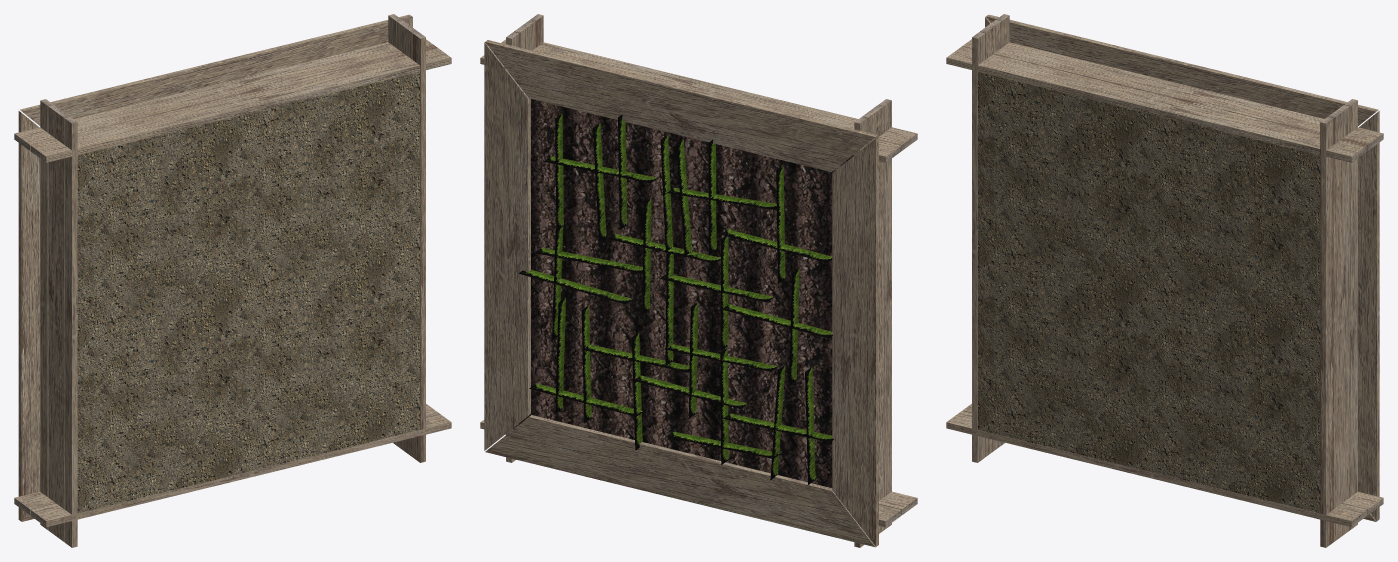
Rendered from sprite-tended.dae.
3 views of the same model, side by side, from view 1: azimuth 30°, elevation 25°; view 2: azimuth 150°, elevation 25°; view 3: azimuth 330°, elevation 25° (orthographic).
Parts seen in each view (by area): view 1: dirt, plank_06_Cube_009, top_2_Cube_022, top_3_Cube_021, plank_04_Cube_006, plank_07_Cube_010, plank_03_Cube_004, plank_01_Cube_02, plank_05_Cube_007, plank_08_Cube_011, plank_09_Cube_013, plank_02_Cube_03; view 2: dirt, top_2_Cube_022, top_3_Cube_021, top_4_Cube_023, top_1_Cube_016, plank_06_Cube_009, plank_03_Cube_004, plank_04_Cube_006, Cube_028_Cube_081, Cube_029_Cube_080, Cube_030_Cube_082, Cube_000_Cube_066 (+30 smaller); view 3: dirt, plank_06_Cube_009, top_4_Cube_023, top_3_Cube_021, plank_09_Cube_013, plank_07_Cube_010, plank_08_Cube_011, plank_01_Cube_02, plank_10_Cube_014, plank_03_Cube_004, plank_04_Cube_006, plank_02_Cube_03.
Part boxes in pixels (x1,y1,x2,y2): dirt: [77, 71, 419, 513]; plank_06_Cube_009: [30, 46, 451, 162]; top_2_Cube_022: [18, 111, 40, 521]; top_3_Cube_021: [20, 14, 412, 125]; plank_04_Cube_006: [48, 105, 69, 541]; plank_07_Cube_010: [14, 39, 435, 150]; plank_03_Cube_004: [64, 117, 77, 547]; plank_01_Cube_02: [30, 411, 451, 527]; plank_05_Cube_007: [40, 99, 53, 529]; plank_08_Cube_011: [412, 32, 425, 462]; plank_09_Cube_013: [396, 20, 417, 456]; plank_02_Cube_03: [14, 404, 435, 515]; dirt: [512, 99, 853, 487]; top_2_Cube_022: [832, 136, 878, 546]; top_3_Cube_021: [485, 40, 877, 171]; top_4_Cube_023: [484, 42, 530, 450]; top_1_Cube_016: [485, 415, 875, 547]; plank_06_Cube_009: [501, 39, 917, 150]; plank_03_Cube_004: [878, 99, 891, 529]; plank_04_Cube_006: [862, 105, 883, 533]; Cube_028_Cube_081: [660, 135, 673, 253]; Cube_029_Cube_080: [676, 139, 692, 257]; Cube_030_Cube_082: [593, 123, 606, 241]; Cube_000_Cube_066: [805, 367, 815, 484]; dirt: [978, 71, 1320, 513]; plank_06_Cube_009: [946, 46, 1367, 162]; top_4_Cube_023: [1358, 111, 1379, 520]; top_3_Cube_021: [986, 14, 1378, 125]; plank_09_Cube_013: [1328, 105, 1349, 541]; plank_07_Cube_010: [962, 39, 1383, 150]; plank_08_Cube_011: [1320, 117, 1333, 547]; plank_01_Cube_02: [946, 411, 1367, 527]; plank_10_Cube_014: [1344, 99, 1357, 529]; plank_03_Cube_004: [972, 32, 985, 462]; plank_04_Cube_006: [980, 20, 1001, 456]; plank_02_Cube_03: [962, 404, 1383, 515].
Size of the model in its own units: 3.68 by 0.6108 by 3.68.
Materials: 4 (4 with a texture image).
